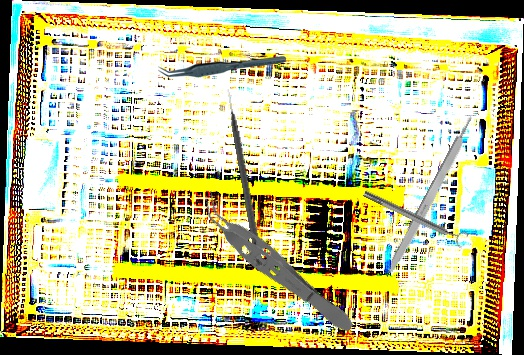Fixation Ring: (360, 184, 470, 250)
Hook Surgical: (225, 87, 266, 272)
Scalpel Handle: (382, 113, 480, 281)
Tissue Forceps: (190, 189, 362, 341), (158, 55, 286, 78)
